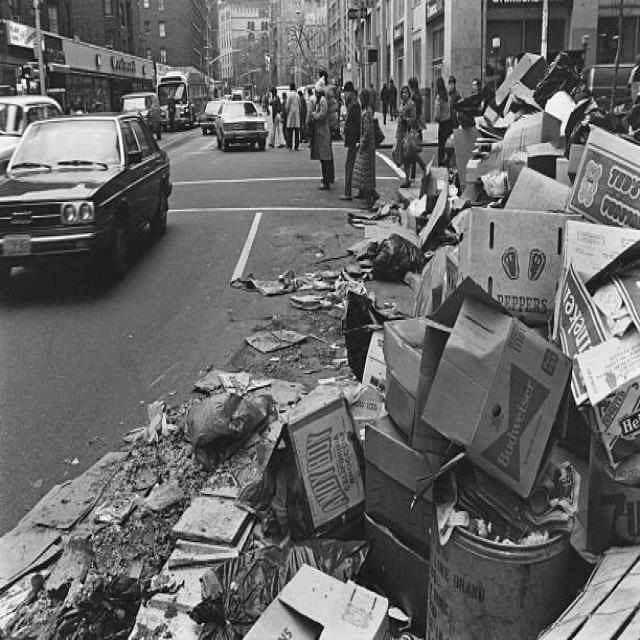cardboard: (382, 120, 639, 446), (280, 383, 389, 574)
trash: (404, 502, 602, 616)
